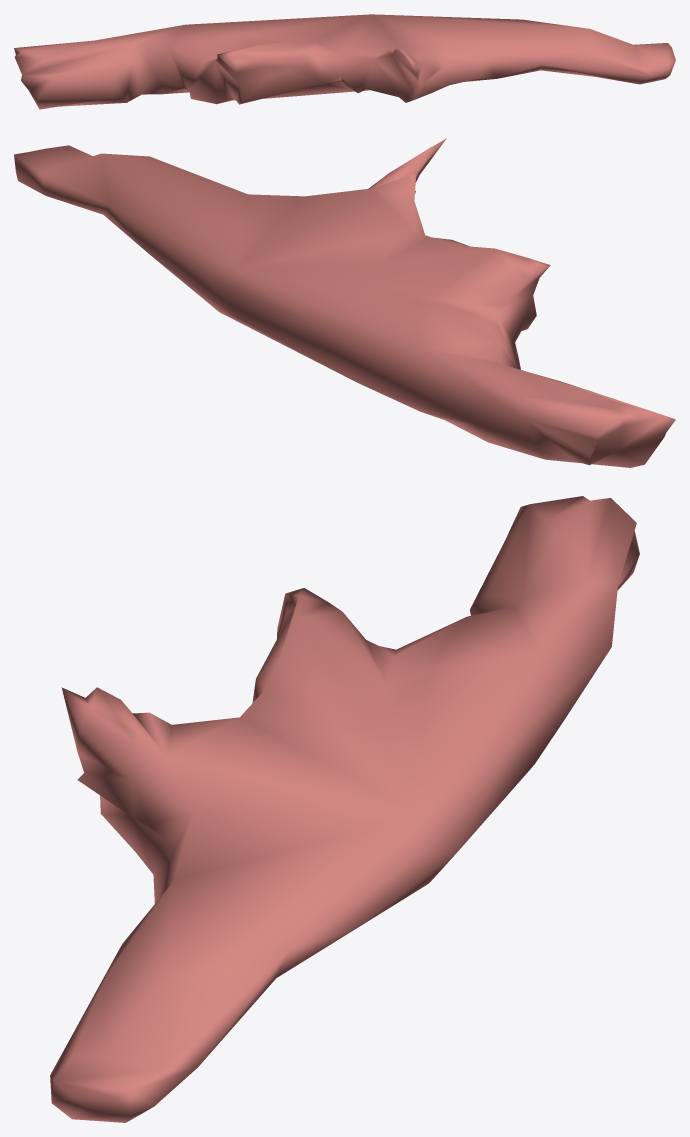
3 renders of one model, top to bottom at view 1: azimuth 30°, elevation 25°; view 2: azimuth 150°, elevation 25°; view 3: azimuth 270°, elevation 25°, orthographic. The views are drawn at different scales.
Parts seen in each view (by area): view 1: ZA_a421aaaf4d520900; view 2: ZA_a421aaaf4d520900; view 3: ZA_a421aaaf4d520900.
Boxes of the visible parts, x1,y1,x2,y2 form: ZA_a421aaaf4d520900: (14,14,675,109); ZA_a421aaaf4d520900: (14,138,675,467); ZA_a421aaaf4d520900: (50,496,639,1122).
Size of the model in its own units: 0.0482 by 0.00745 by 0.0224.
